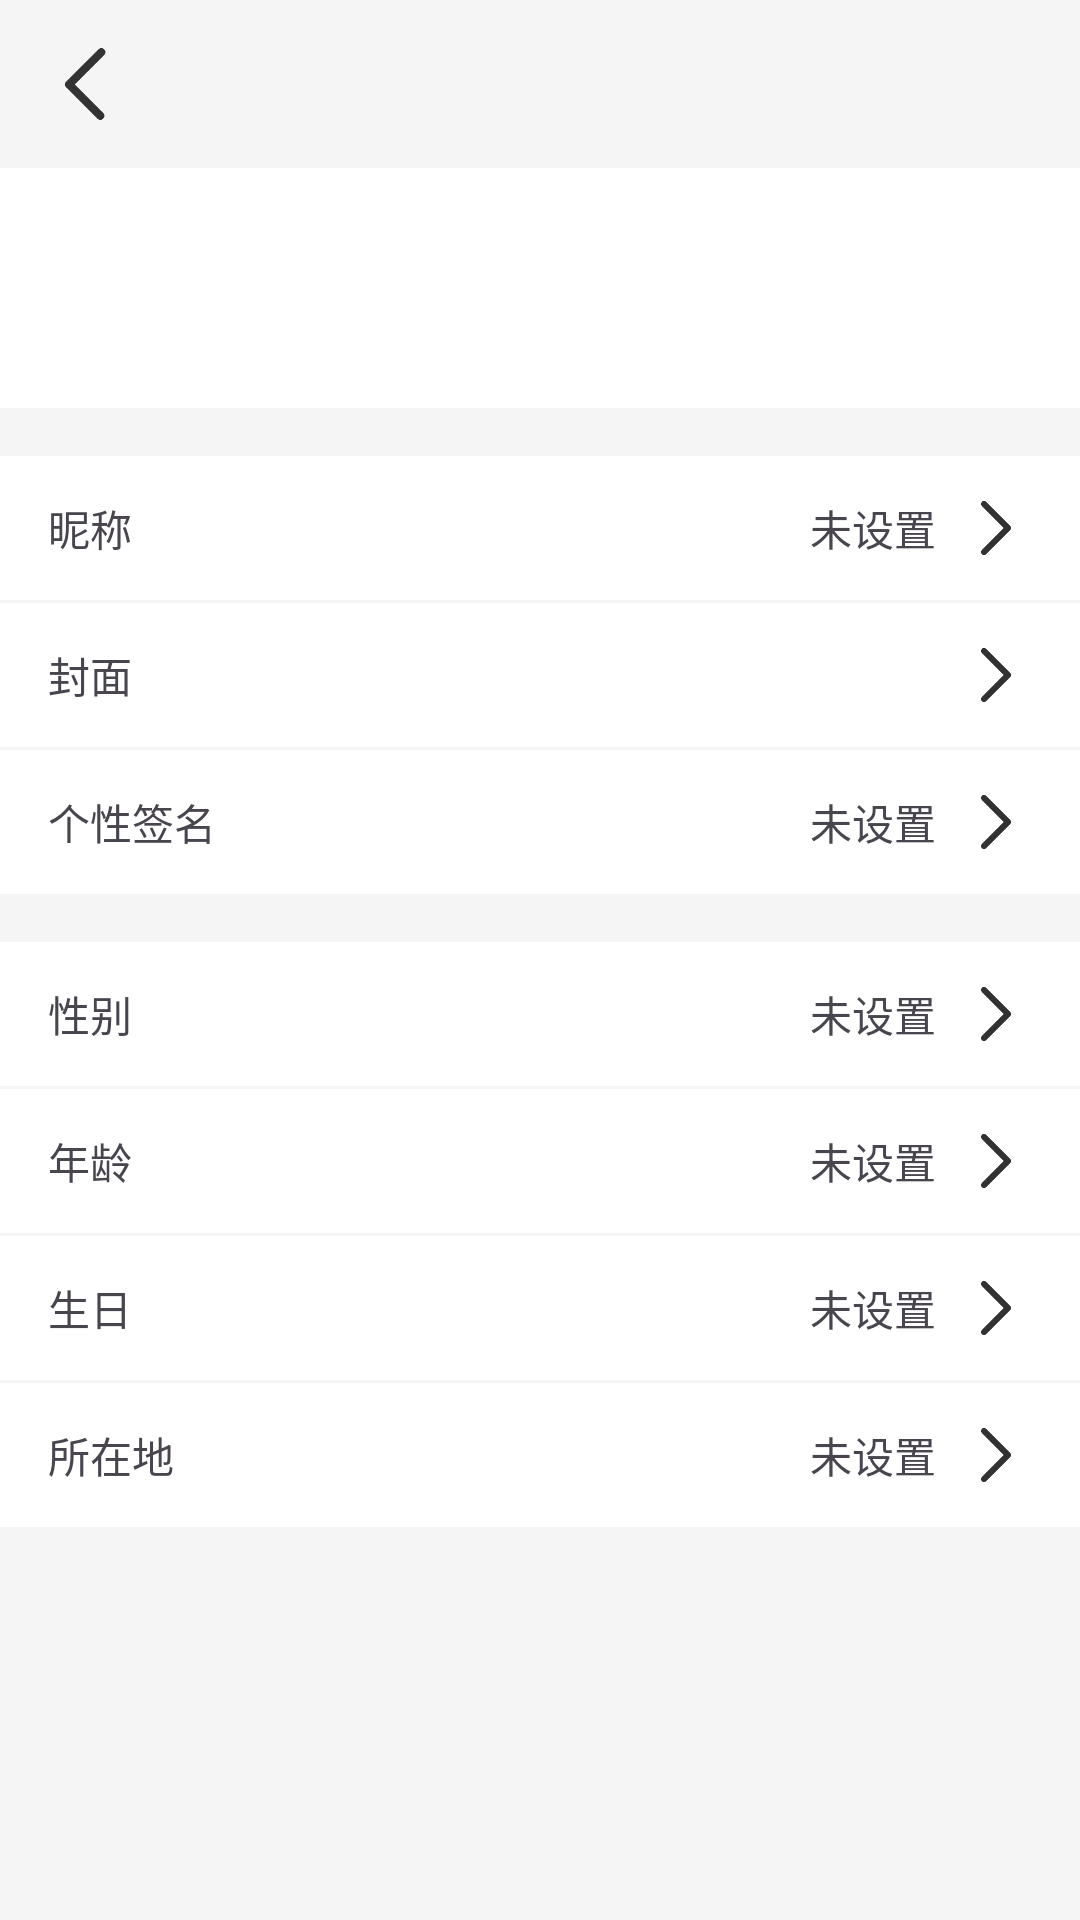

Screen size 1080 x 1920. Icon name, then its center in pixels as point (x, y):
arrow right: point (996, 528), point (996, 675), point (996, 822), point (996, 1014), point (996, 1161), point (996, 1308), point (996, 1455)
back: point (85, 84)
